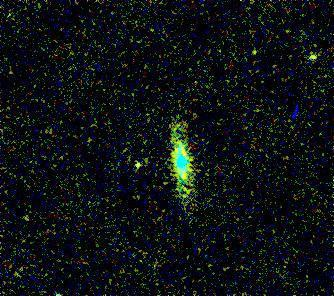star: (295, 43, 325, 73)
